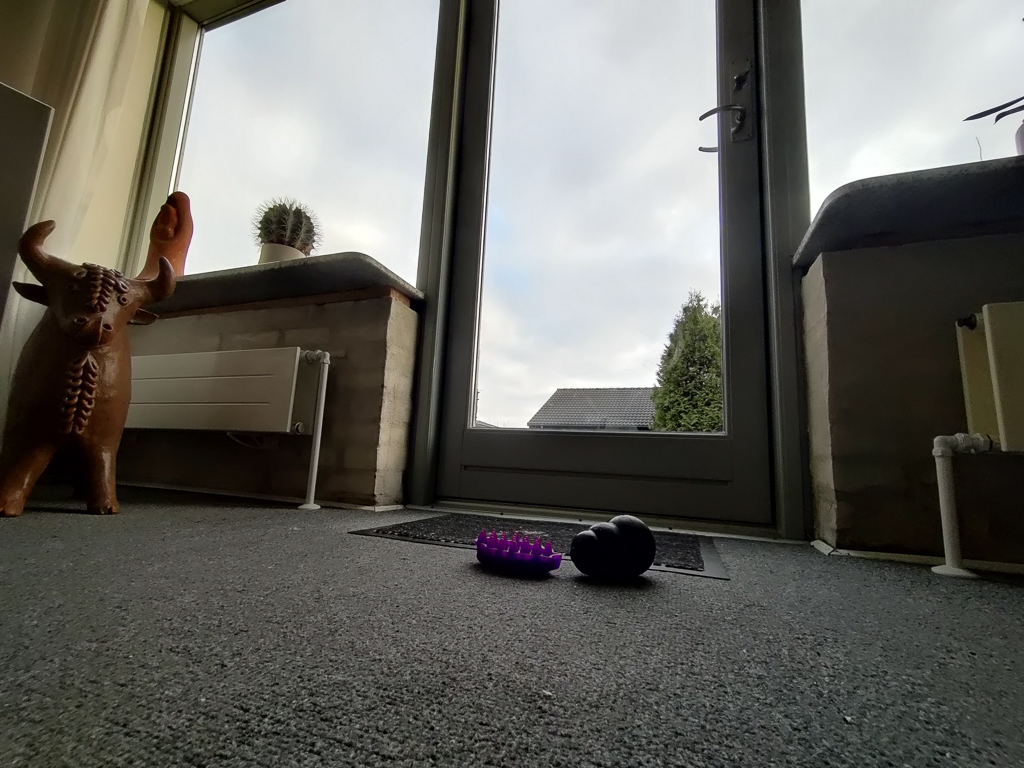Cattle: (0, 217, 187, 529)
Humanoid: (127, 184, 201, 282)
